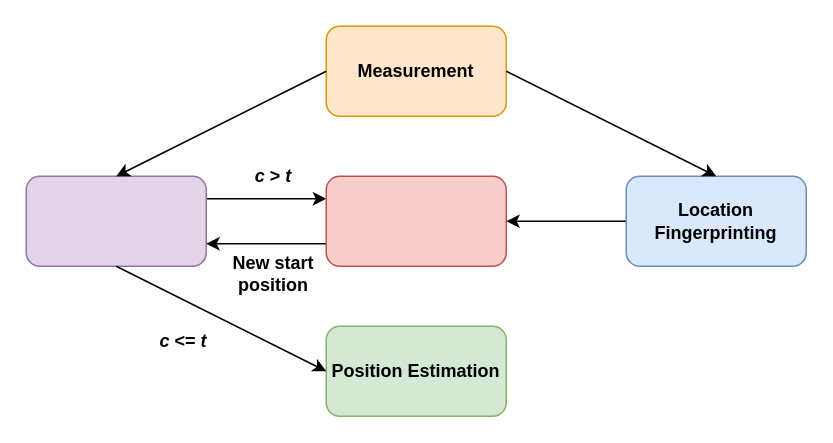
Image size: 833x443. Some labels were removed from this diagram. Here are the shapes that lost their labels. From the top down, the centre of each, then its label:
At [115,220]: "PDR".
At [415,220]: "Recalibrate".
